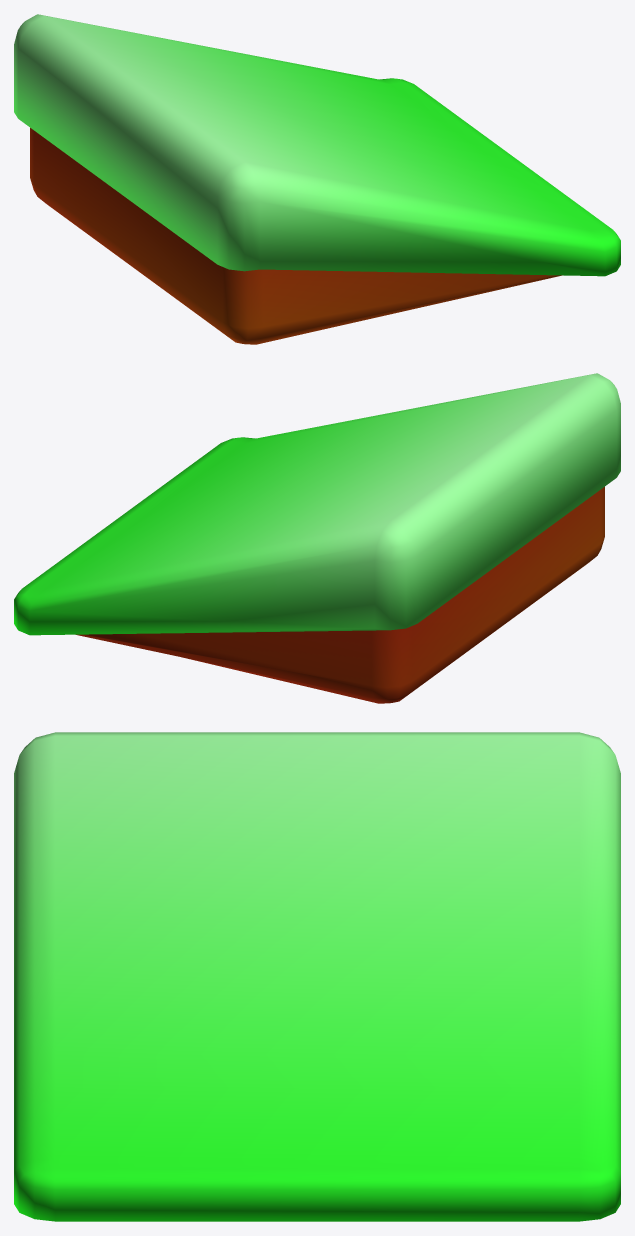
File: trap_platformstairgreen.glb
The picture shows the model from 3 angles, top to bottom: view 1: azimuth 30°, elevation 25°; view 2: azimuth 150°, elevation 25°; view 3: azimuth 270°, elevation 25°; orthographic projection. The views are drawn at different scales.
Visible parts, largest first — view 1: Cube.011_visual; view 2: Cube.011_visual; view 3: Cube.011_visual.
Part boxes in pixels (x1,y1,x2,y2): Cube.011_visual: (14,14,620,344); Cube.011_visual: (14,373,620,703); Cube.011_visual: (14,732,620,1221).
Size of what is drawn, in the model's own units: 1.42 by 0.634 by 1.42.
1 material, 1 textured.
